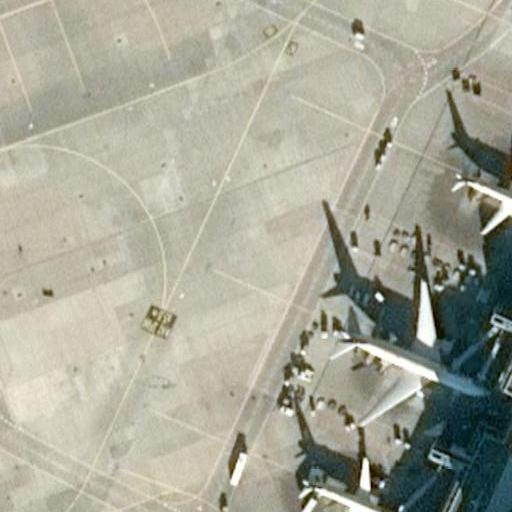Aircraft: (332, 278, 488, 426), (299, 456, 407, 512), (450, 153, 512, 240)
